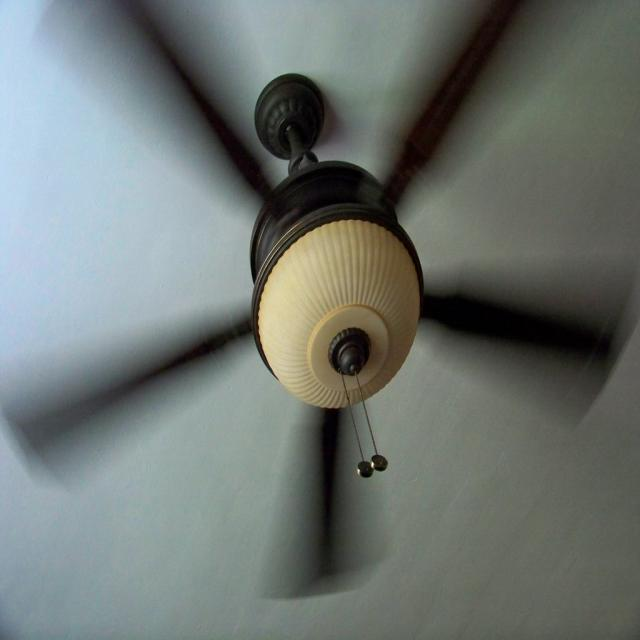fan_on: (0, 1, 640, 593)
